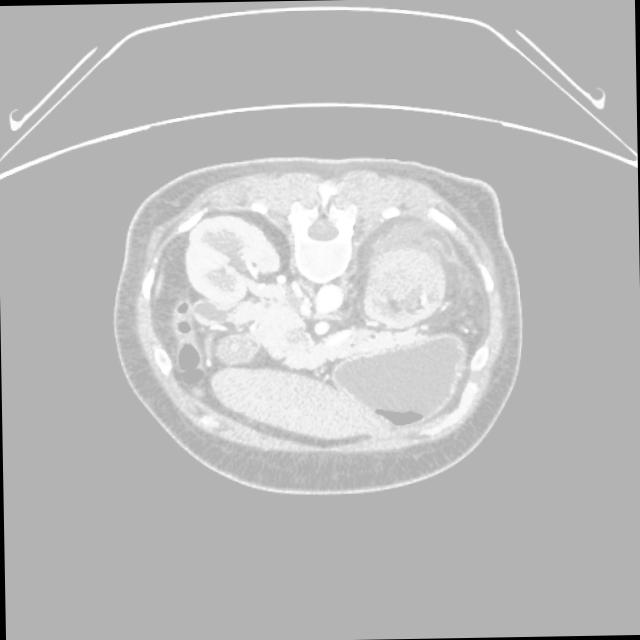TUMOR: (89, 259, 534, 460)
